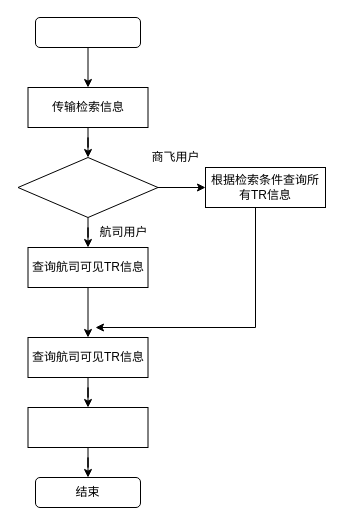
The diagram is 343 pixels wide and 525 high, and some of its shapes have lost their labels. The centre of each missing label's shape, as x and y in pixels:
"判断用户权限" goes at [87,187].
"开始" goes at [87,32].
"组装数据返回前端展示" goes at [87,427].
